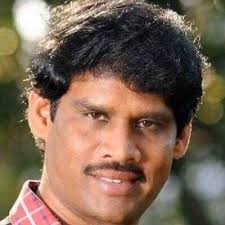Indian_Male: (54, 48, 171, 218)
